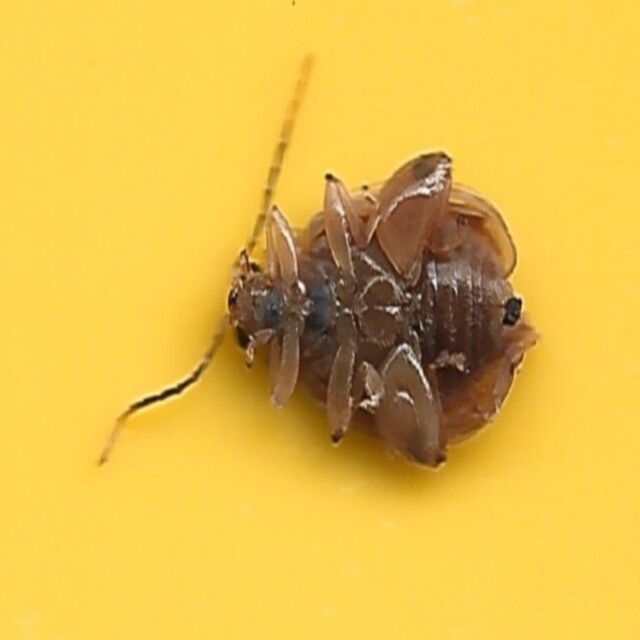Coleoptera: (97, 148, 543, 492)
